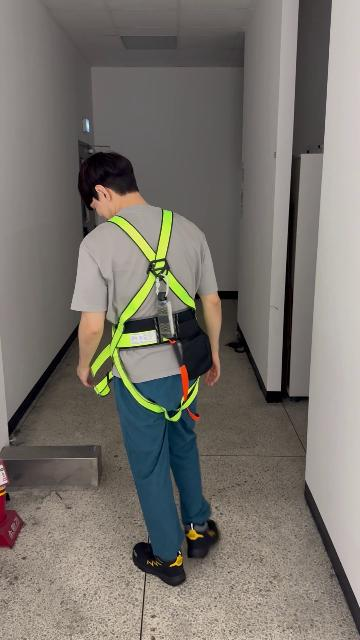helmet_not_worn: (76, 150, 140, 206)
shoe_worn: (132, 542, 185, 586), (184, 519, 219, 559)
vest_worn: (91, 212, 205, 409)
